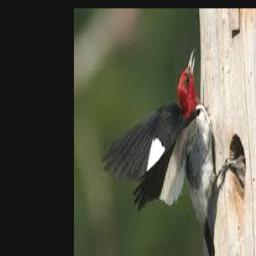Woodpecker: (103, 49, 244, 256)
